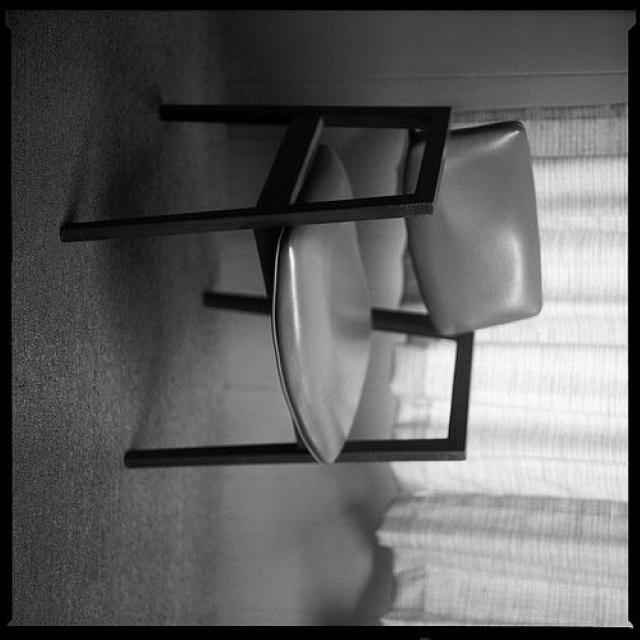chair: (59, 99, 546, 472)
